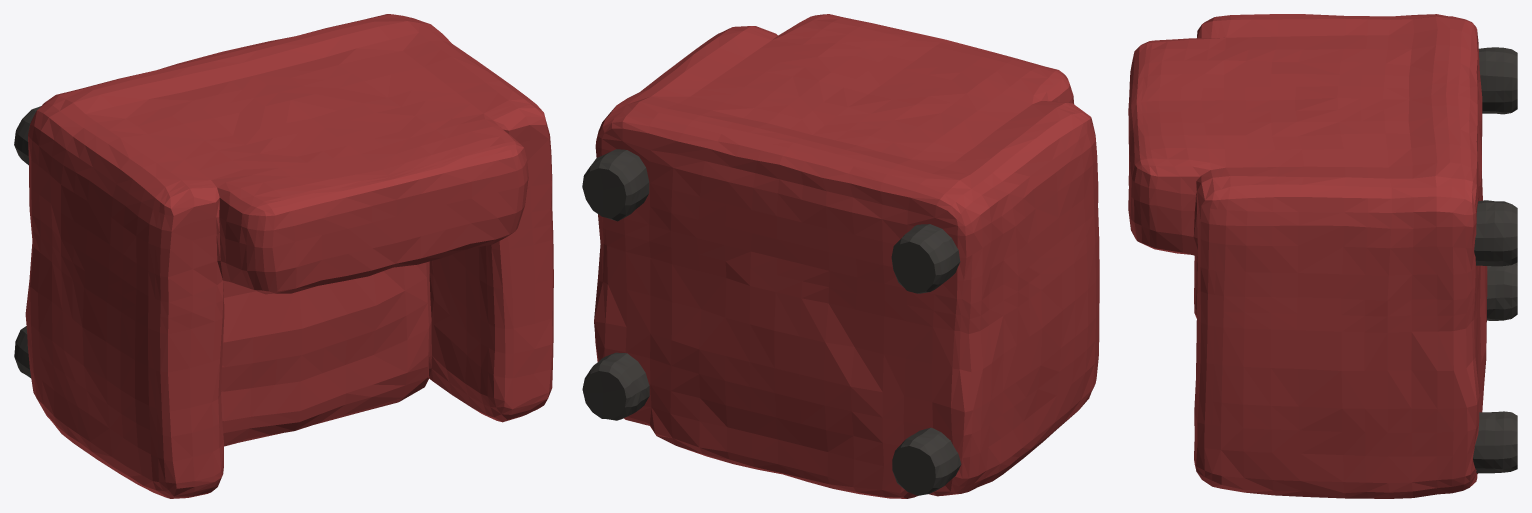
Rendered from sofa.obj.
3 renders of one model, left to right at view 1: azimuth 30°, elevation 25°; view 2: azimuth 150°, elevation 25°; view 3: azimuth 270°, elevation 25°, orthographic. The views are drawn at different scales.
Visible parts, largest first — view 1: Object.1; view 2: Object.1; view 3: Object.1.
Boxes of the visible parts, x1=… form: Object.1: x1=14, y1=14, x2=553, y2=498; Object.1: x1=582, y1=14, x2=1099, y2=498; Object.1: x1=1128, y1=14, x2=1517, y2=498.
Size of the model in its own units: 77.31 by 61.67 by 64.65.
Materials: 1 (1 with a texture image).
